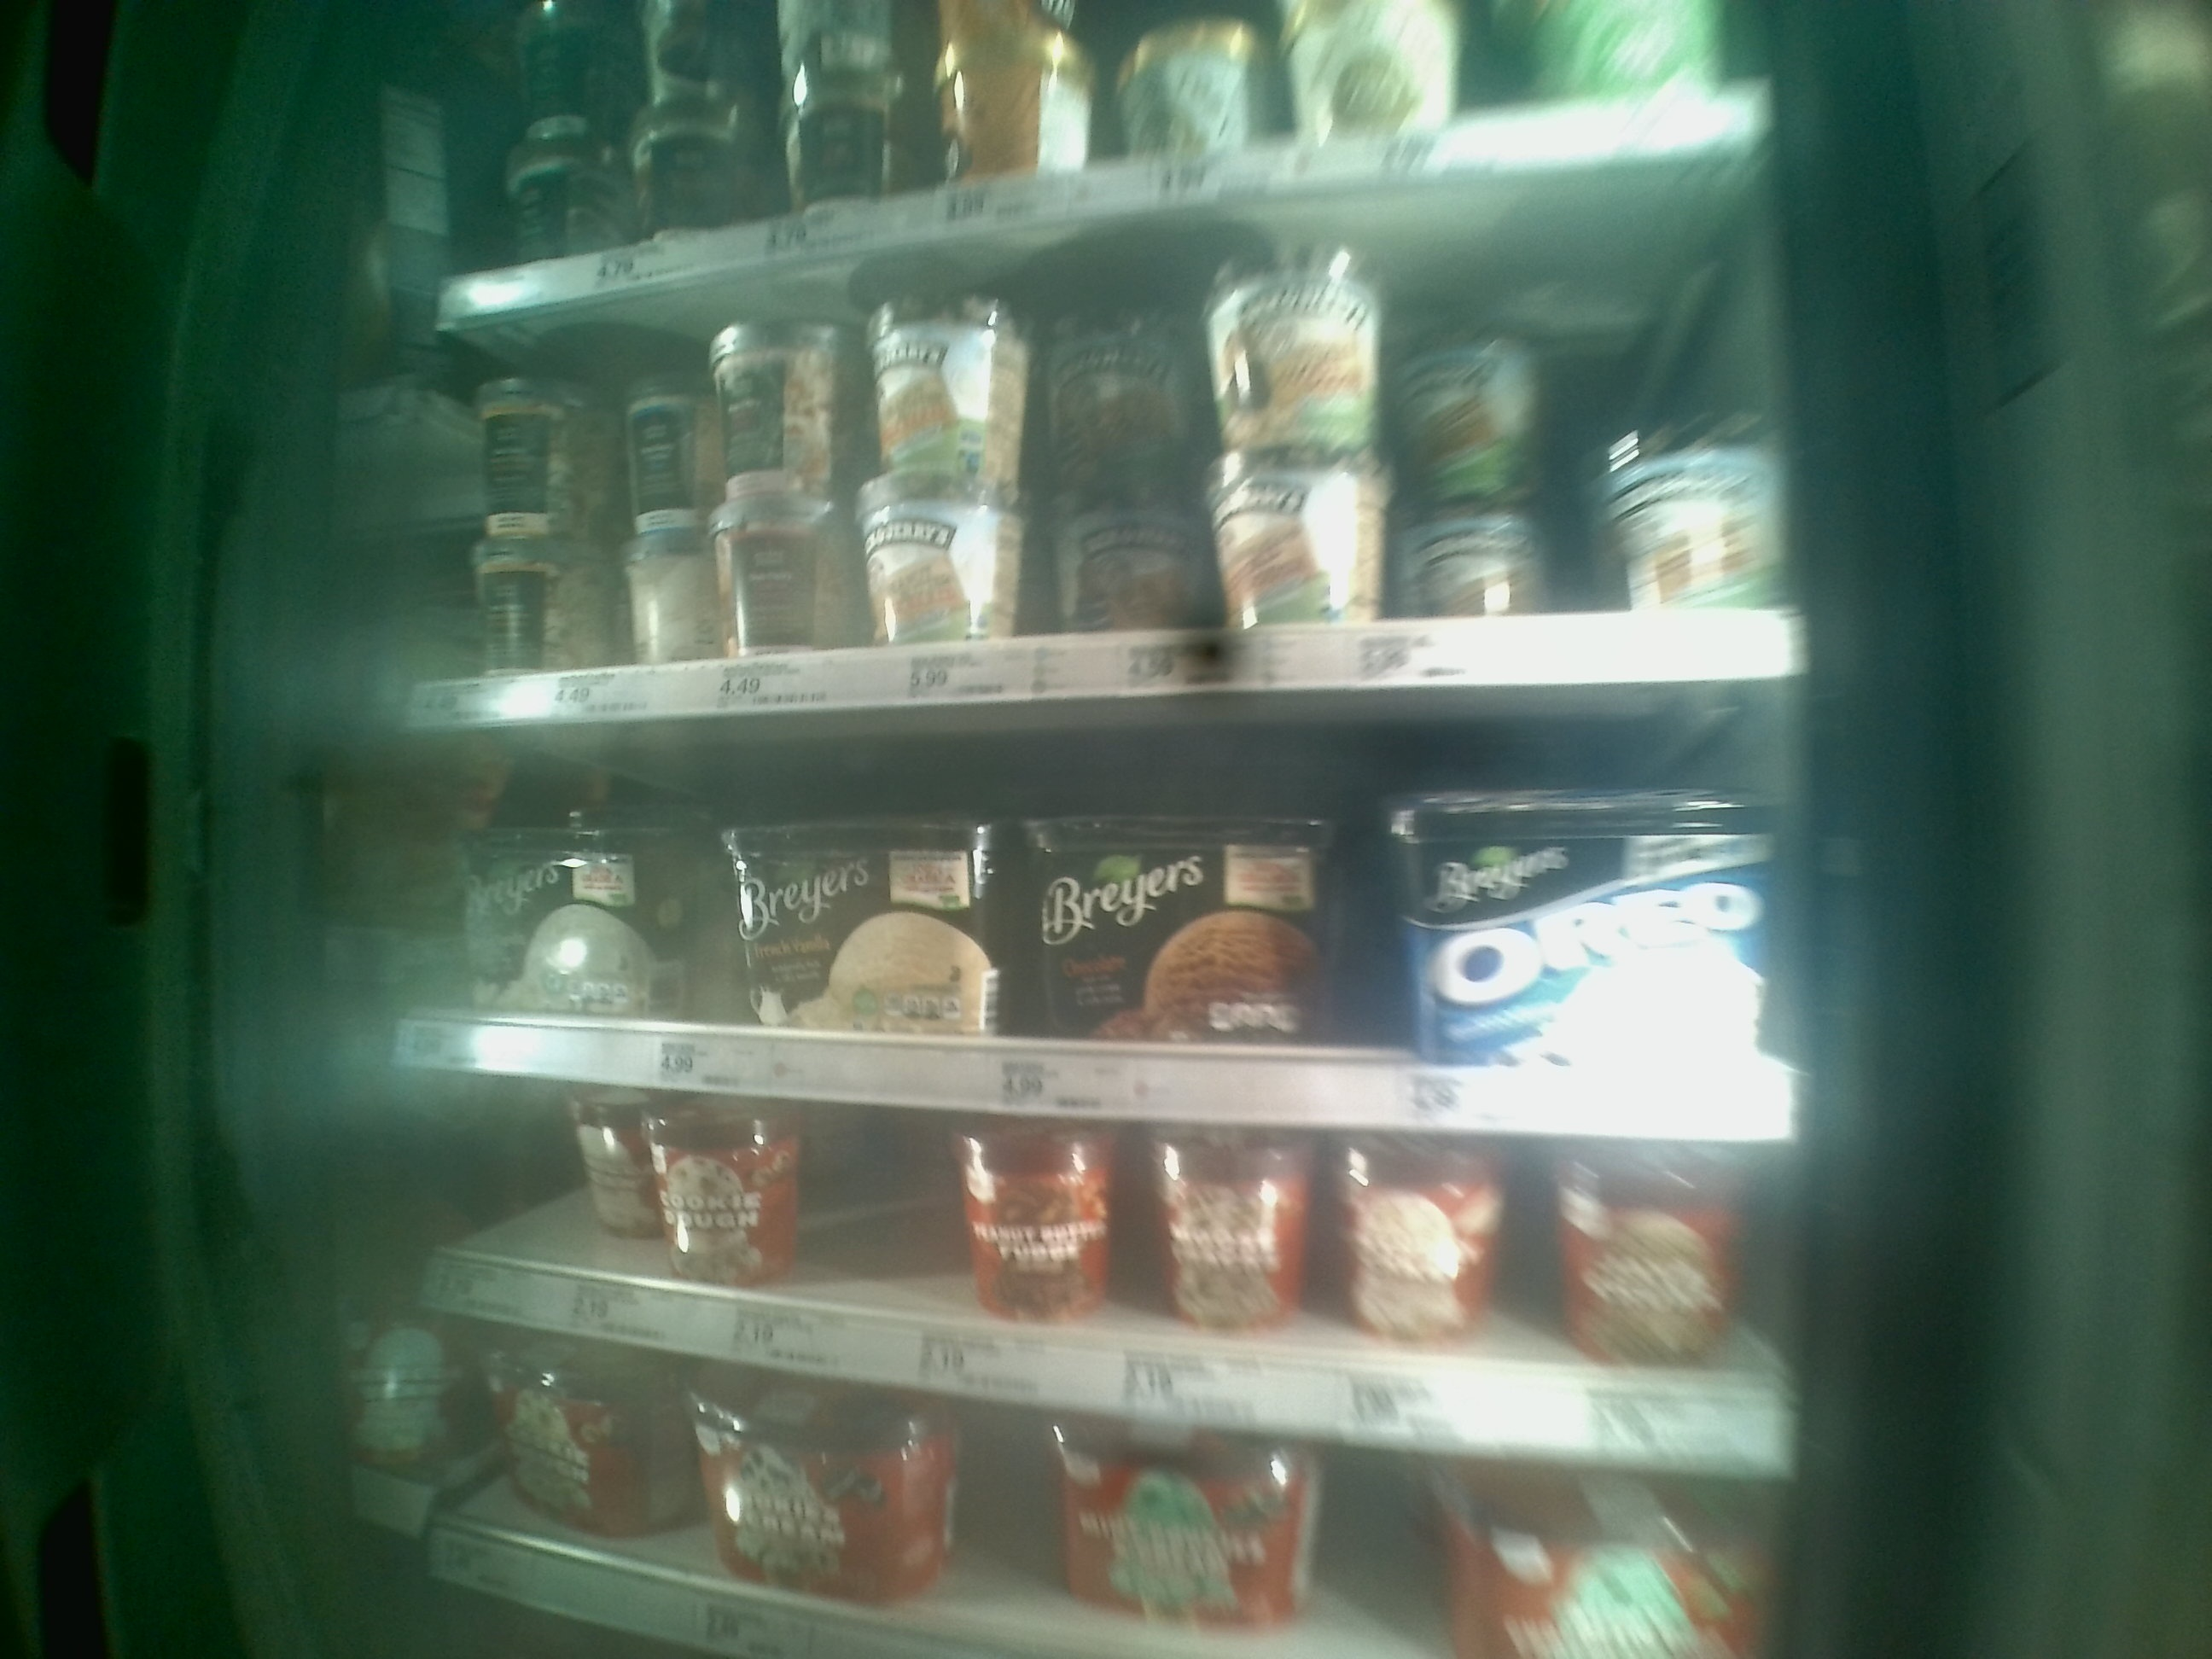ice-cream-shelf: (394, 688, 1810, 1134)
